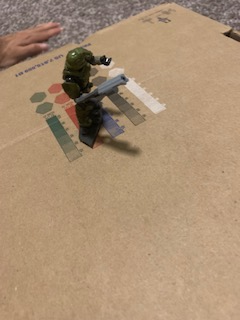soldier: (62, 46, 128, 124)
